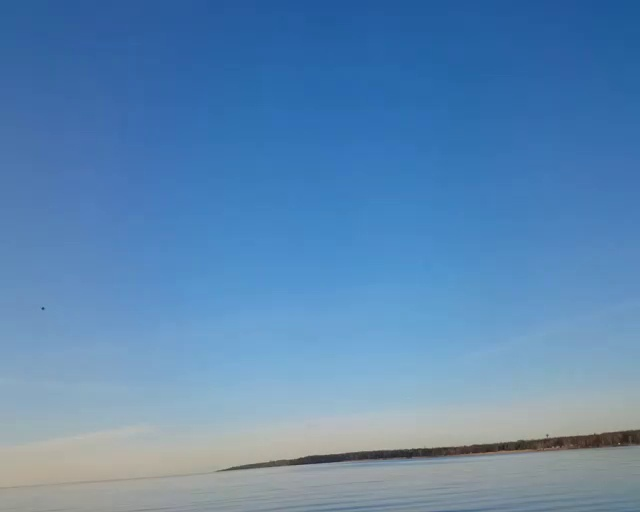BIRD: (40, 305, 46, 311)
